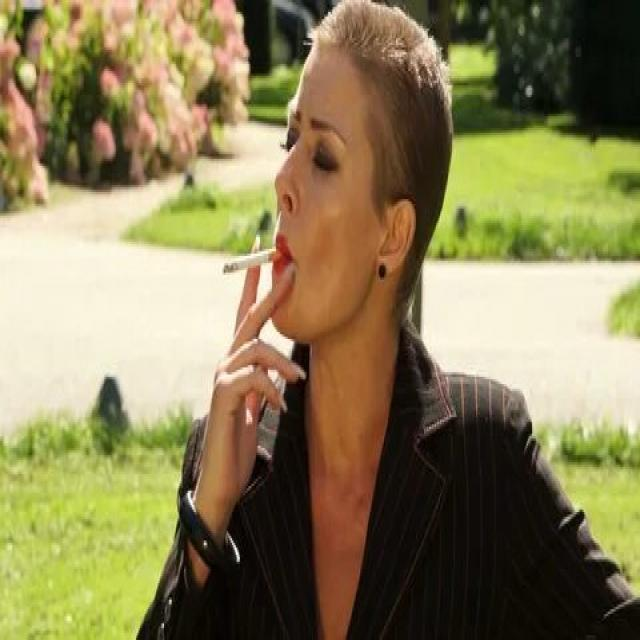smoke: (220, 240, 283, 284)
